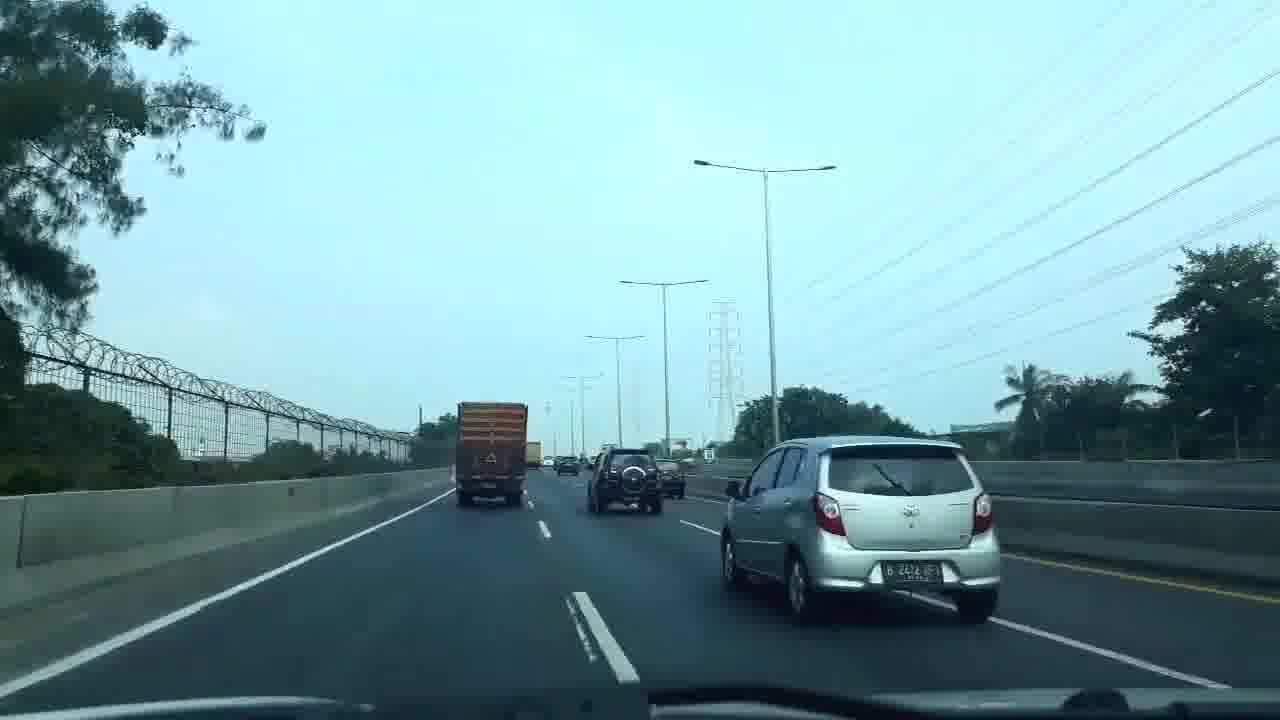plate_positive: (882, 560, 944, 585)
